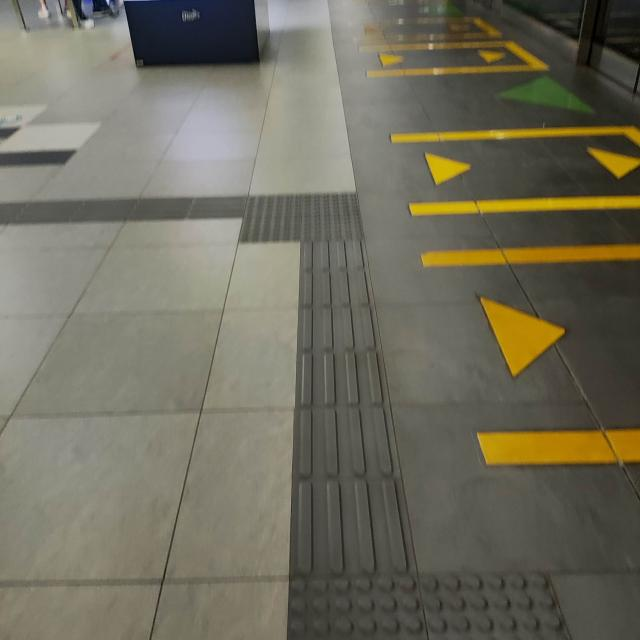kiri: (149, 166, 415, 288)
